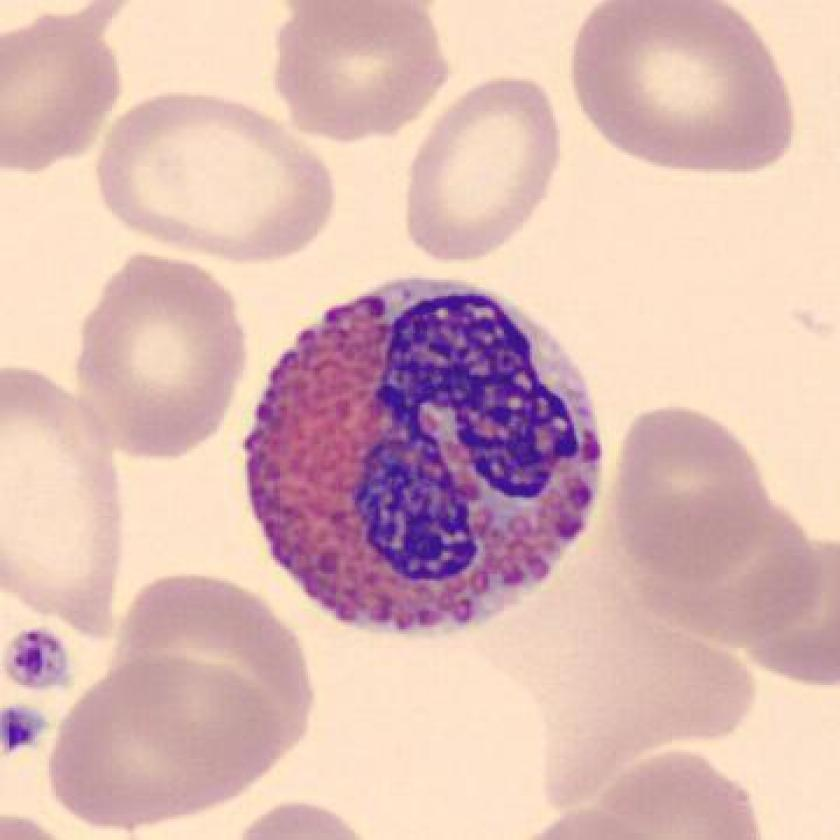eosinophil: (225, 263, 615, 654)
